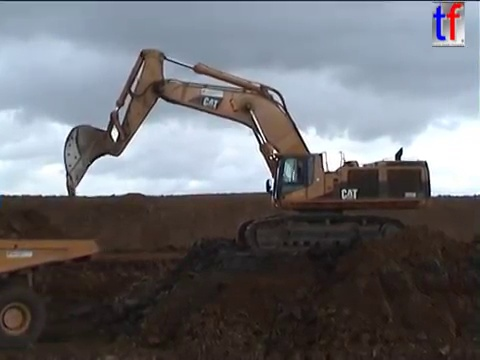excavator: (60, 45, 434, 259)
truck: (1, 227, 101, 351)
